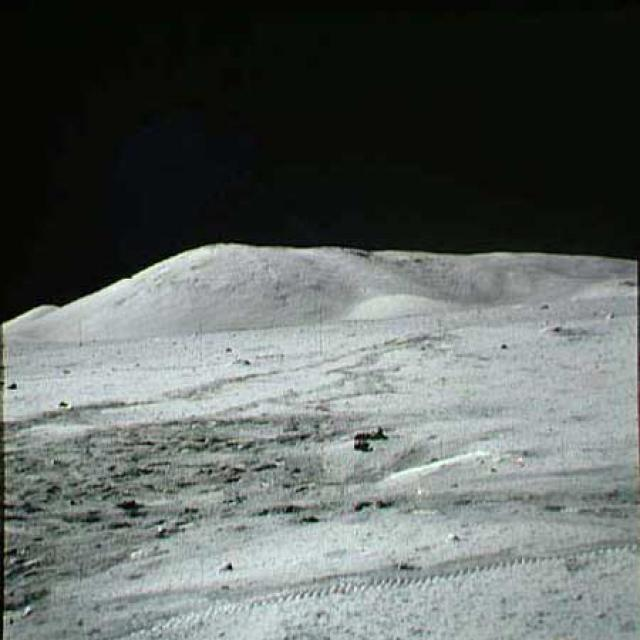crater: (275, 446, 466, 479), (540, 316, 633, 337)
rock: (347, 426, 391, 441)
